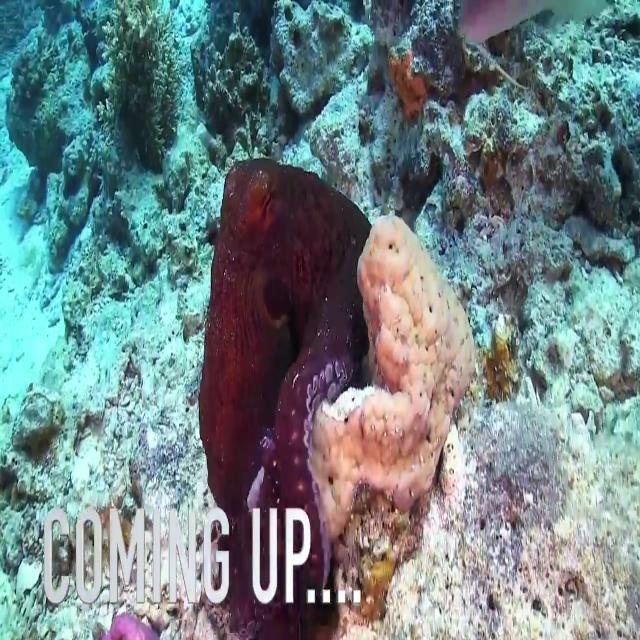octopus: (201, 146, 472, 640)
